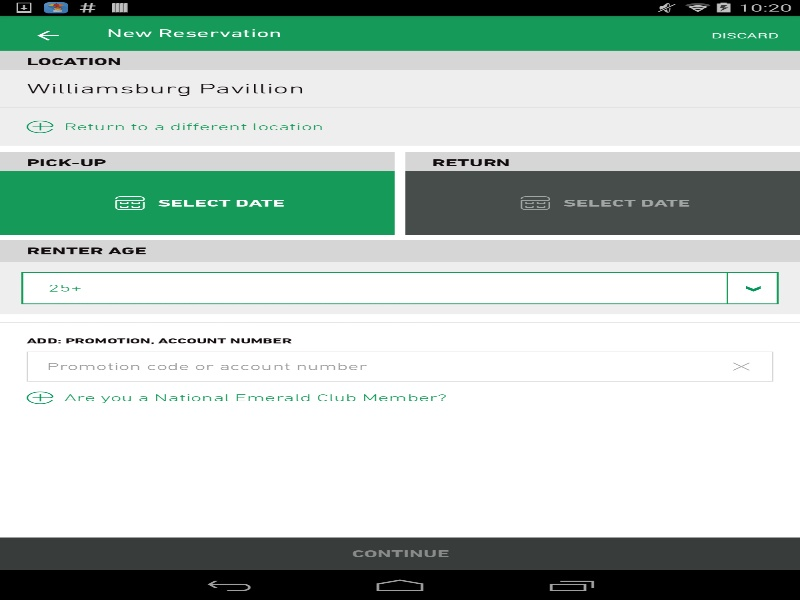Button: (10, 18, 85, 53), (709, 351, 773, 381)
Input: (26, 351, 773, 381)
